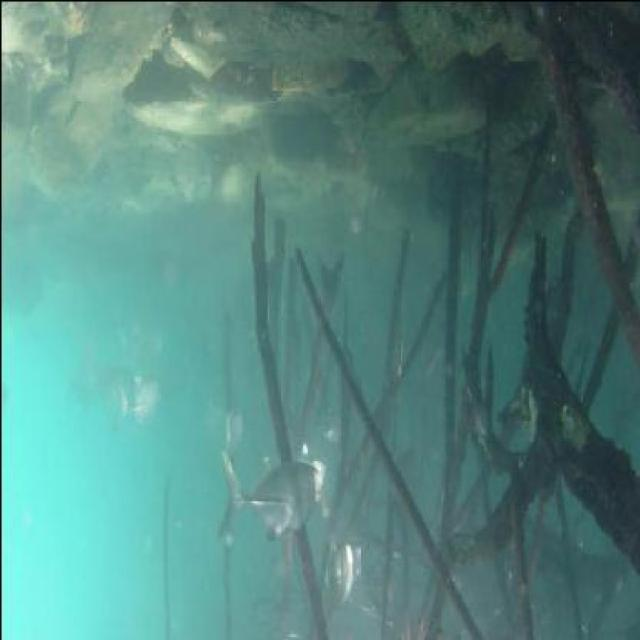Caranx_sexfasciatus_juvenile: (214, 436, 326, 552), (317, 535, 374, 620), (74, 358, 129, 419), (124, 360, 168, 435), (212, 400, 248, 466)
